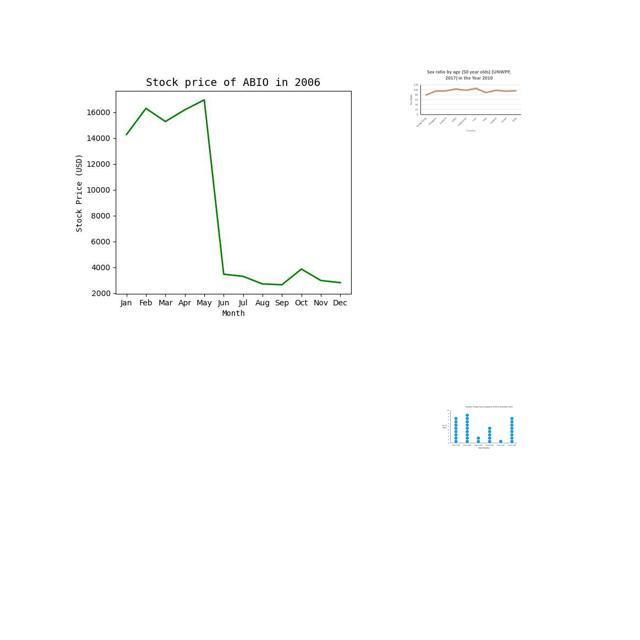Graph: (53, 59, 405, 323), (407, 67, 523, 134), (441, 405, 517, 450)
